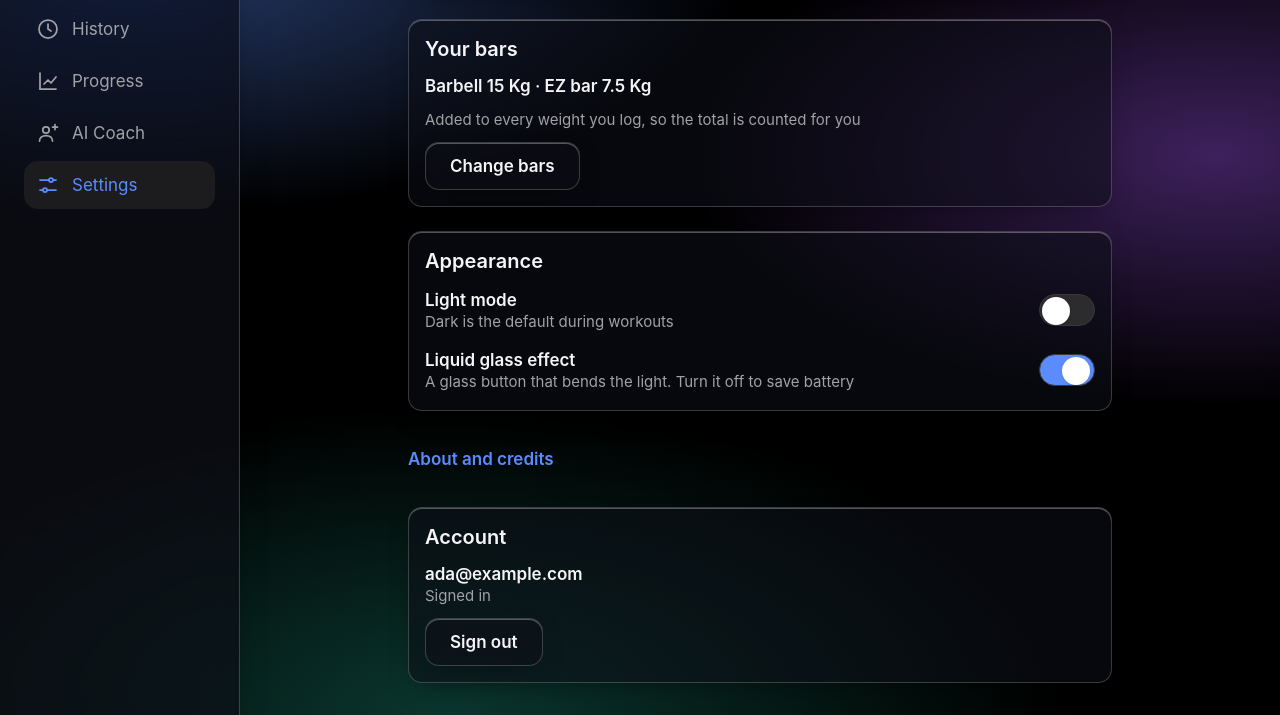
Test: QA sign-out › does not lose waiting sets when the sign-out fails, and asks again about them on Try again
(page scrolled)
Click the button "Sign out" at point(484, 642), box [425,618,543,666]
(page scrolled)
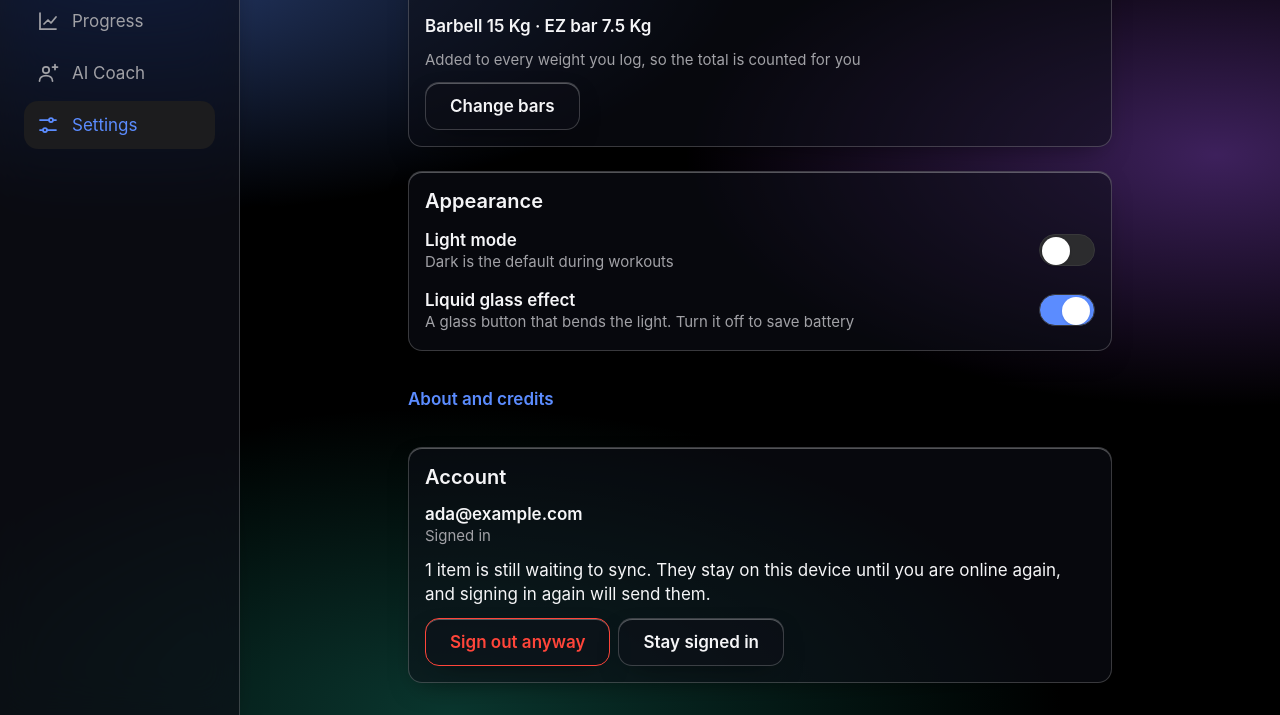
Click the button "Sign out anyway" at point(518, 642), box [425,618,610,666]
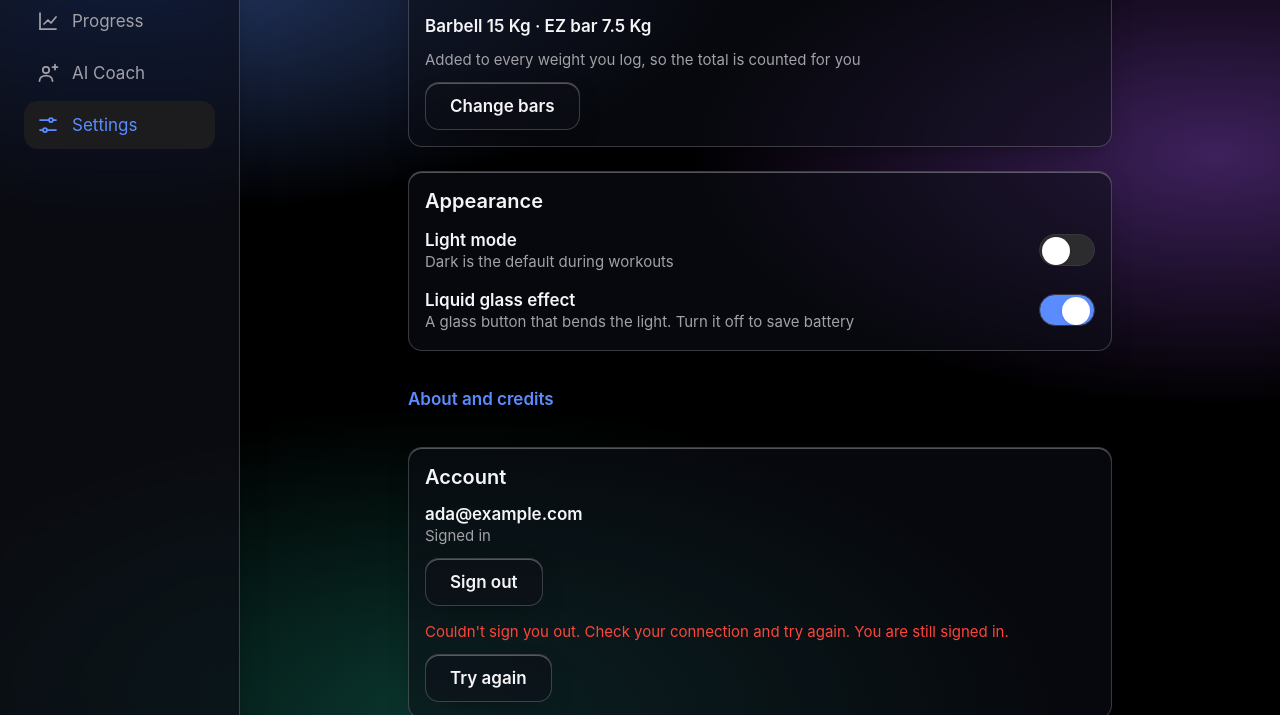
Click the button "Try again" at point(488, 678), box [425,654,552,702]
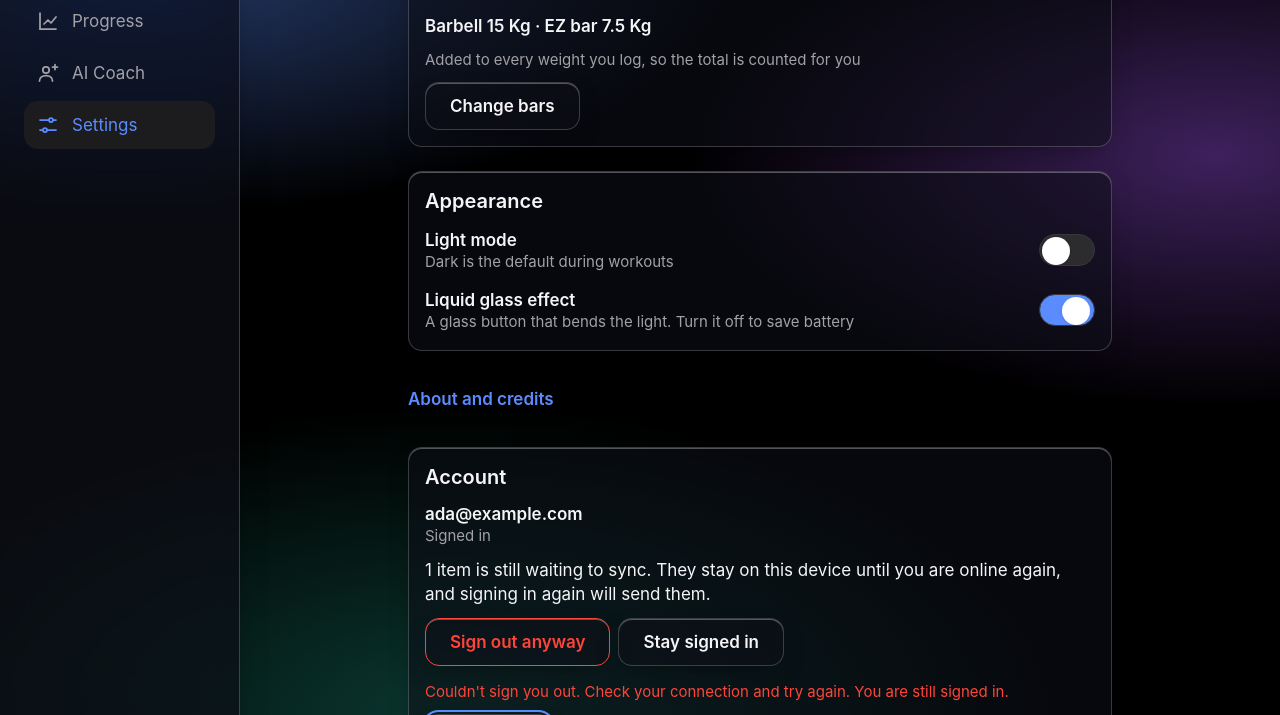
Check: the element named "Sets waiting" is shown, box [425,558,1095,666]
